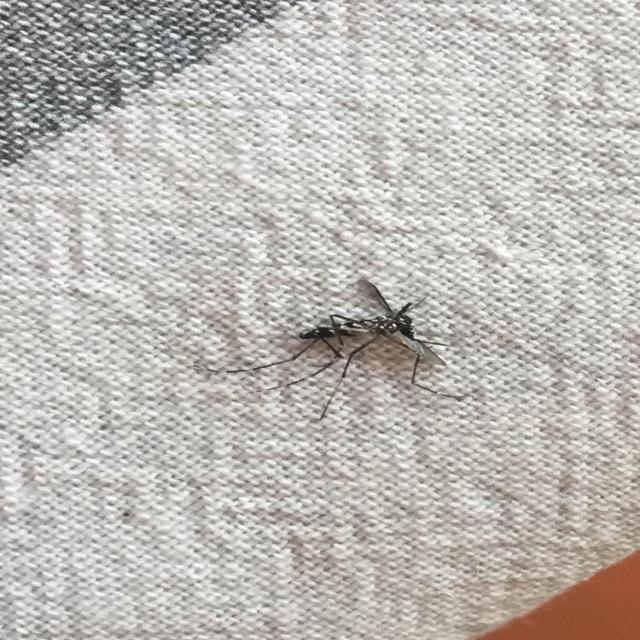albopictus: (191, 276, 468, 424)
